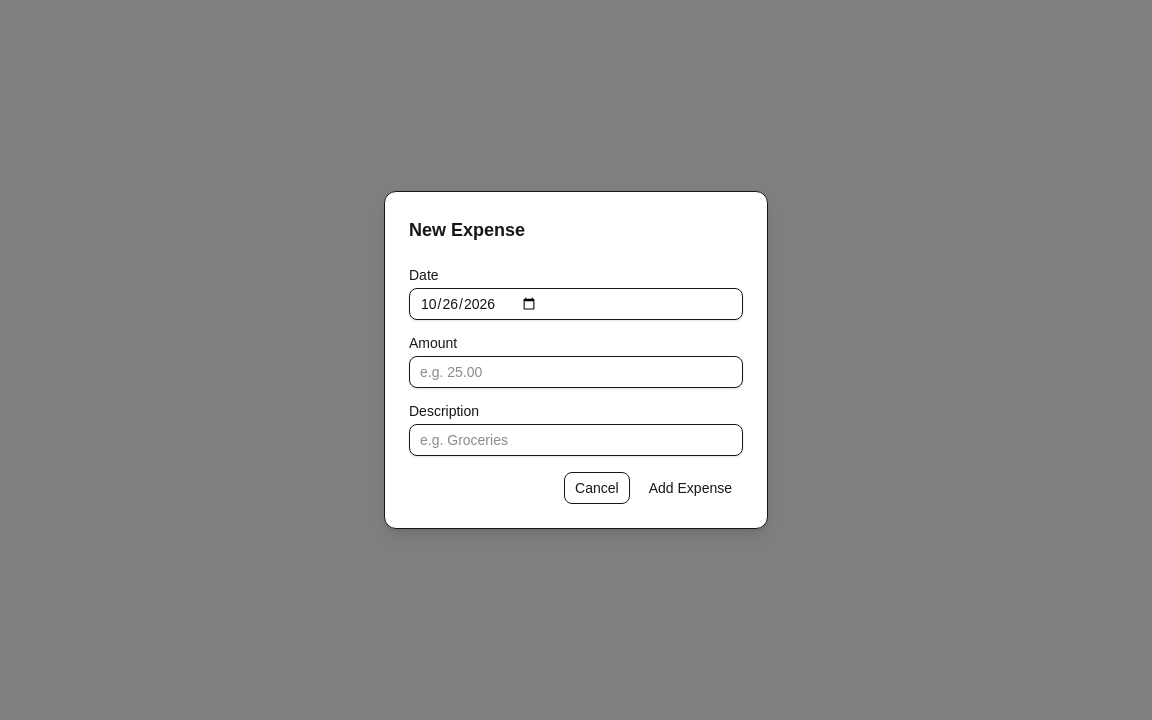
Test: AddExpenseDialog — Validation: amount must be a positive number; description must be non-empty › shows amount invalid error when submitting with negative amount
Type "-50" into the number field labelled "Amount" at (576, 372), box x1=409 y1=356 x2=743 y2=388
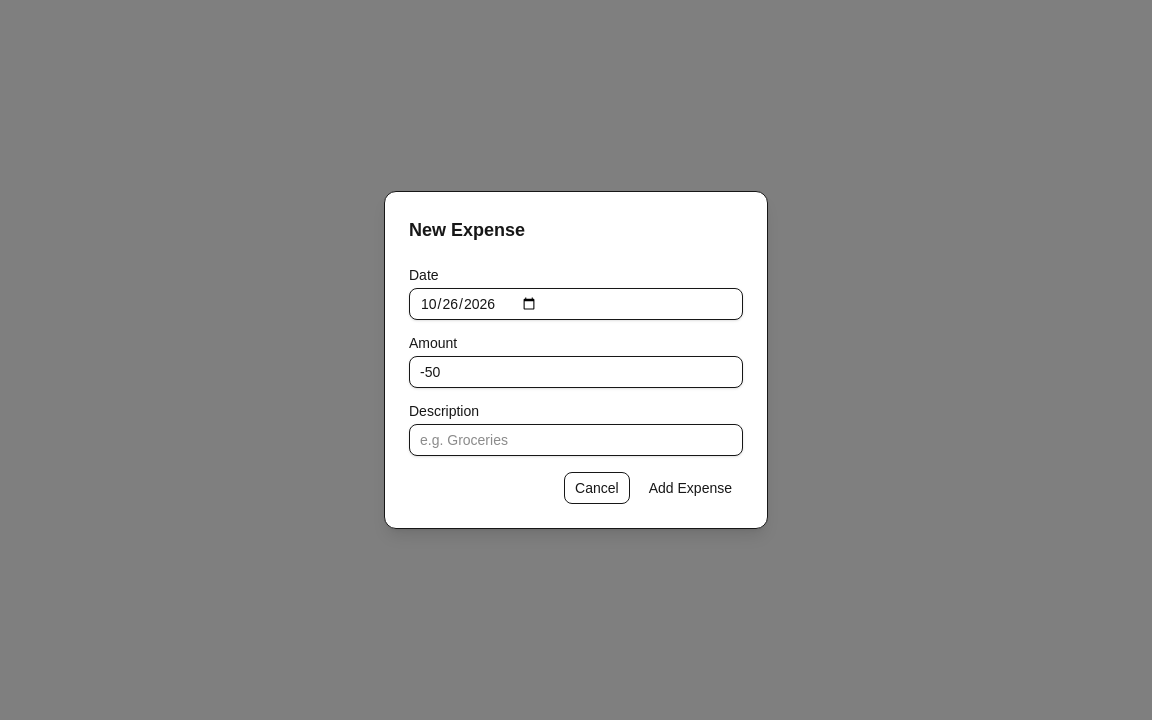
Type "Groceries" into the field labelled "Description" at (576, 440), box x1=409 y1=424 x2=743 y2=456
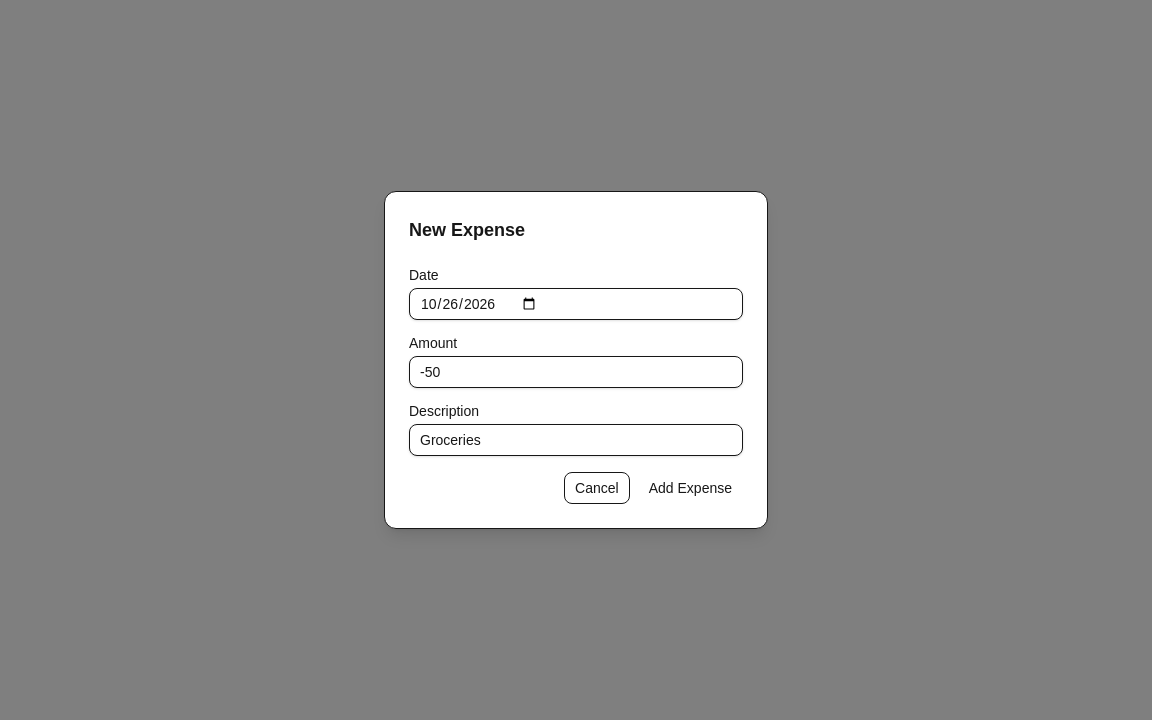
Click the button "Add Expense" at (690, 488), box x1=638 y1=472 x2=743 y2=504
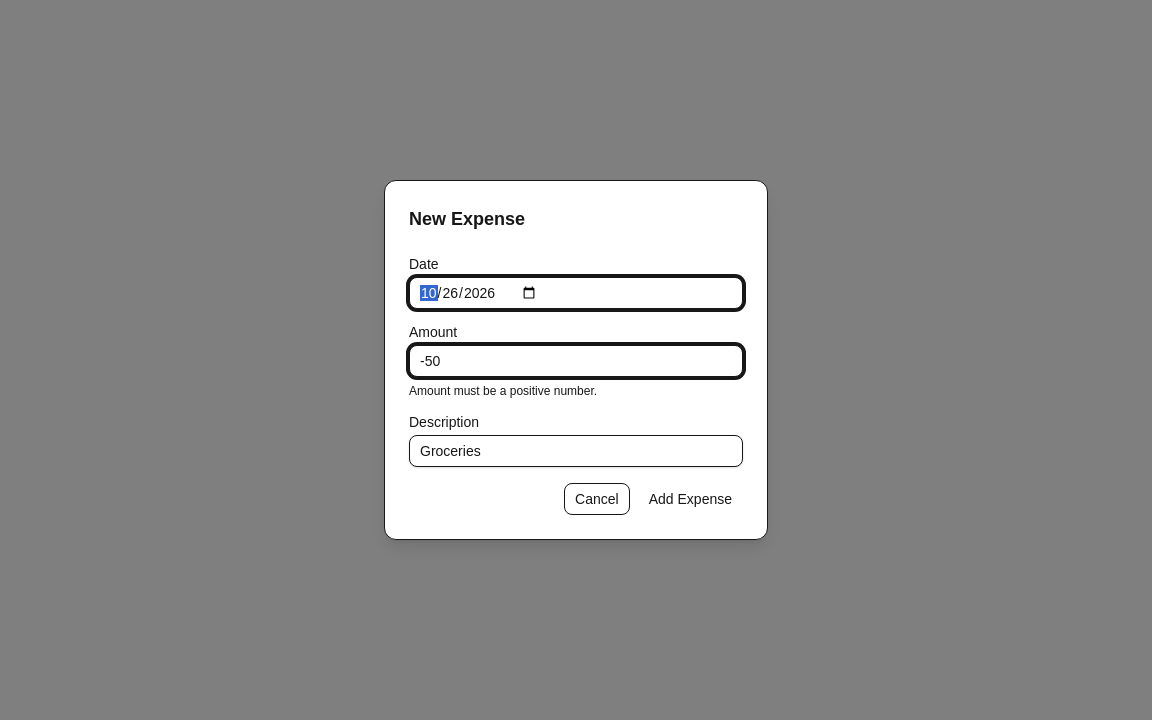
Now the text "Amount must be a positive number." is shown, box x1=409 y1=384 x2=597 y2=398
